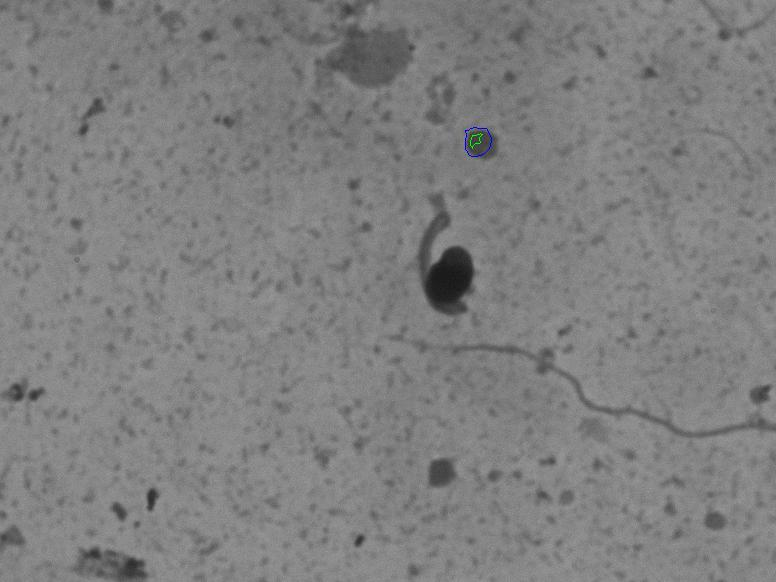Abnormal: (389, 190, 500, 329)
